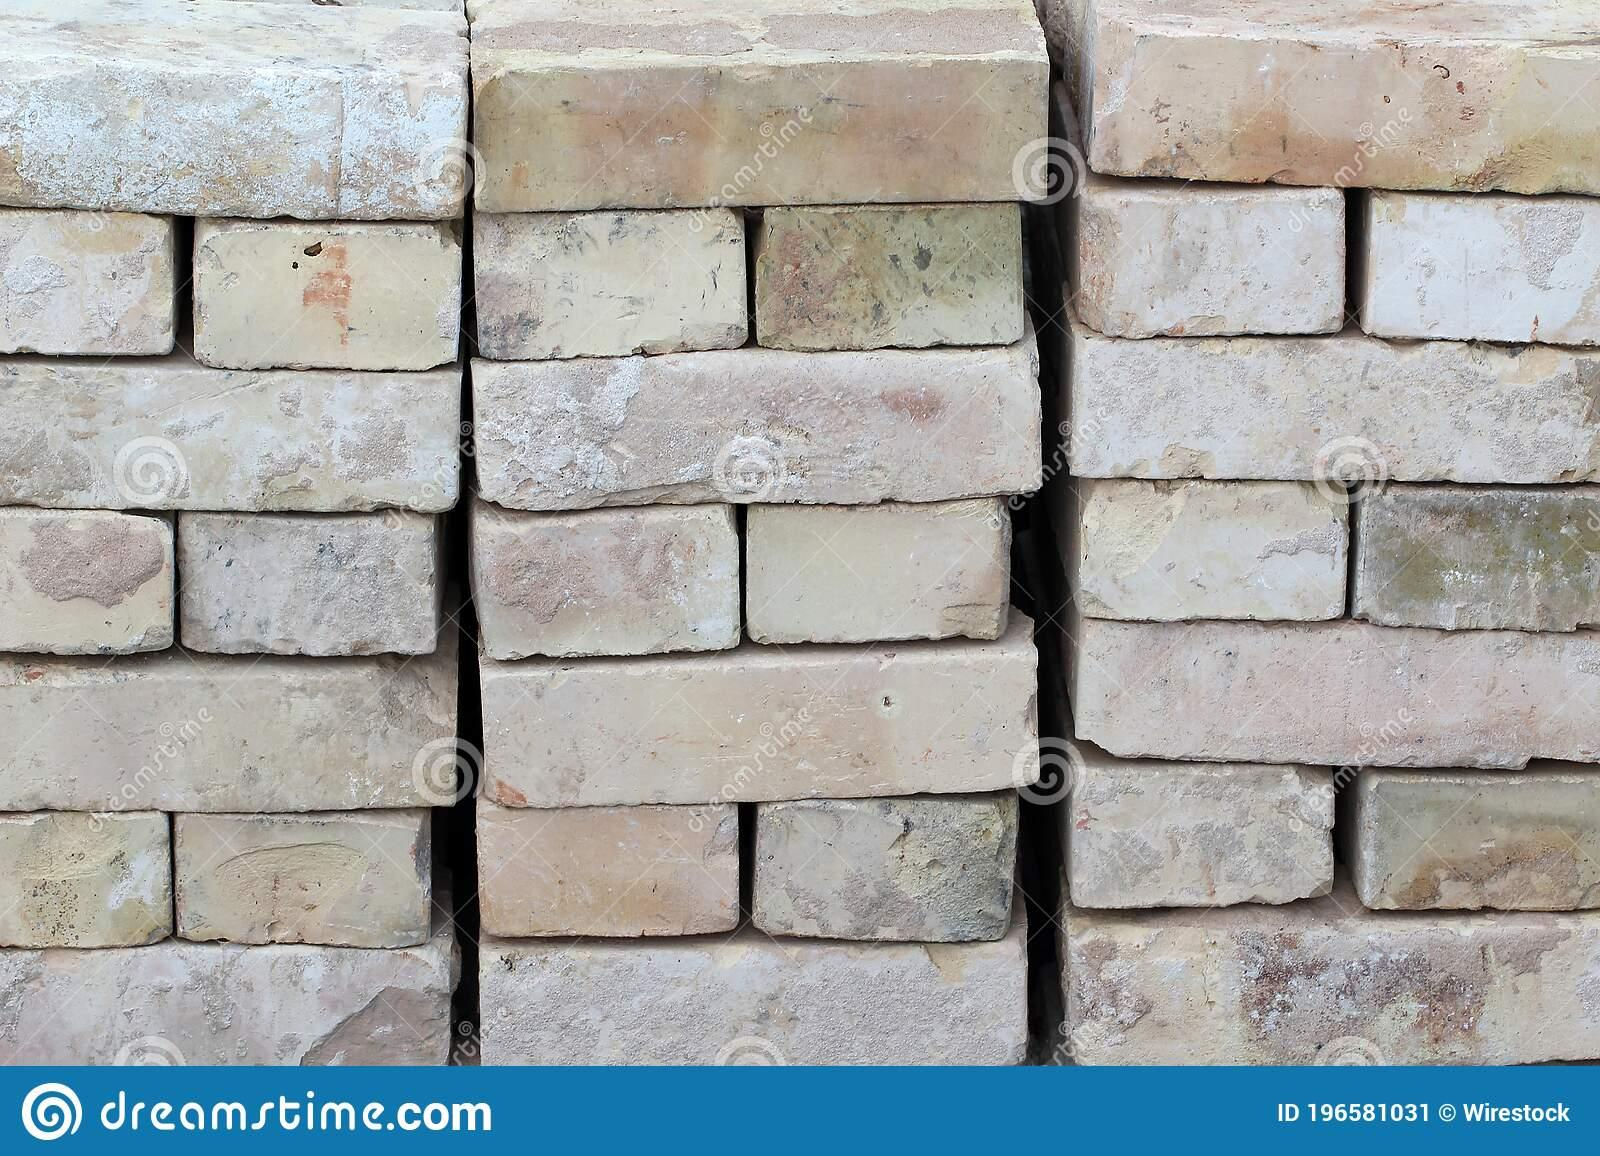brick: (480, 43, 1053, 216), (483, 344, 1050, 517), (483, 643, 1040, 800), (1063, 910, 1596, 1070), (1093, 37, 1596, 186), (1070, 340, 1590, 483), (1087, 623, 1600, 764), (483, 940, 1030, 1070), (4, 661, 447, 817), (6, 67, 463, 206), (4, 370, 453, 503), (6, 944, 450, 1067), (480, 214, 747, 364), (1080, 481, 1350, 620), (473, 520, 740, 661), (196, 220, 453, 364), (757, 210, 1024, 346), (1070, 770, 1333, 906), (753, 800, 1016, 936), (480, 807, 747, 940), (1353, 487, 1600, 627), (184, 520, 426, 663), (1363, 196, 1596, 344), (1089, 200, 1347, 333), (747, 513, 1006, 639), (176, 817, 424, 946), (1366, 787, 1600, 920), (4, 510, 176, 657), (10, 224, 184, 350), (6, 817, 170, 946)
